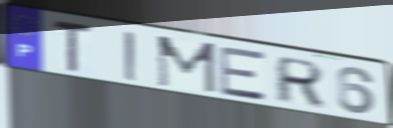6: (335, 66, 379, 116)
E: (217, 45, 269, 103)
I: (122, 29, 140, 84)
M: (154, 34, 219, 96)
R: (273, 55, 327, 108)
T: (51, 18, 95, 74)
